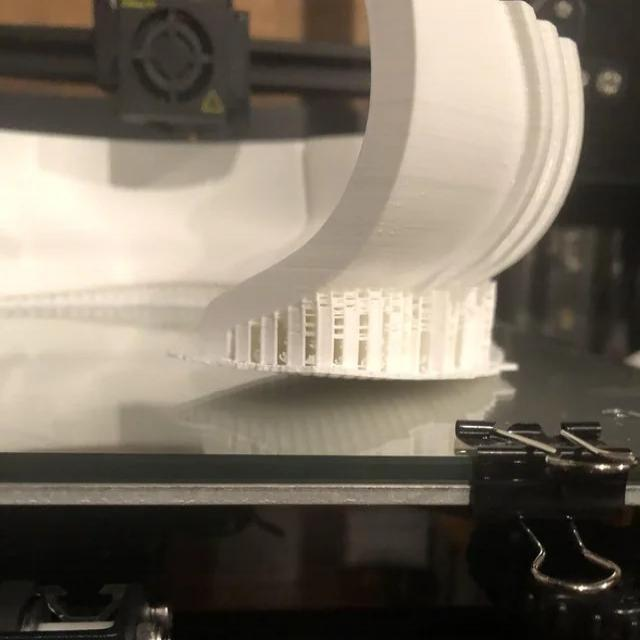Warping: (166, 349, 384, 399)
